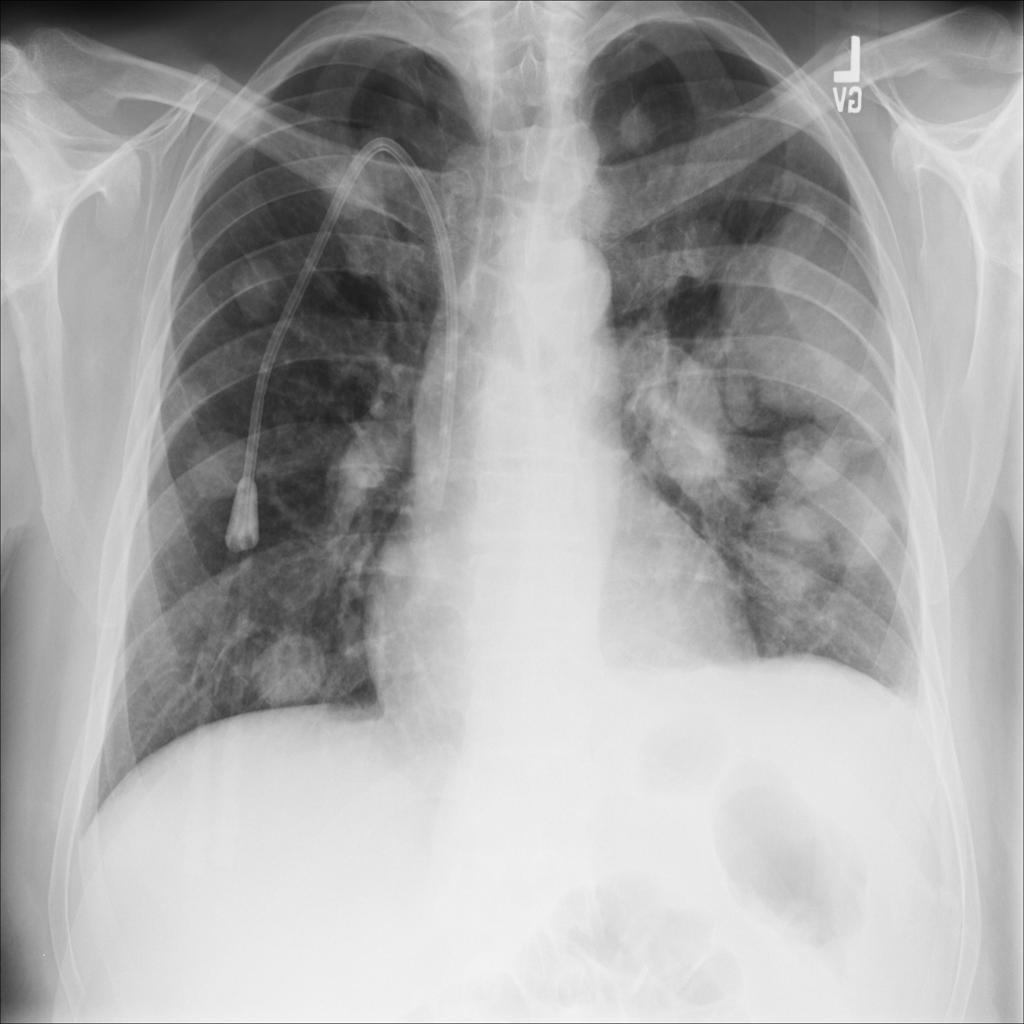nodule: (711, 184, 896, 437), (752, 402, 909, 600), (627, 337, 753, 513), (243, 615, 341, 726), (219, 245, 293, 336), (183, 422, 255, 513), (764, 485, 840, 555), (604, 92, 673, 169), (374, 536, 425, 589)
